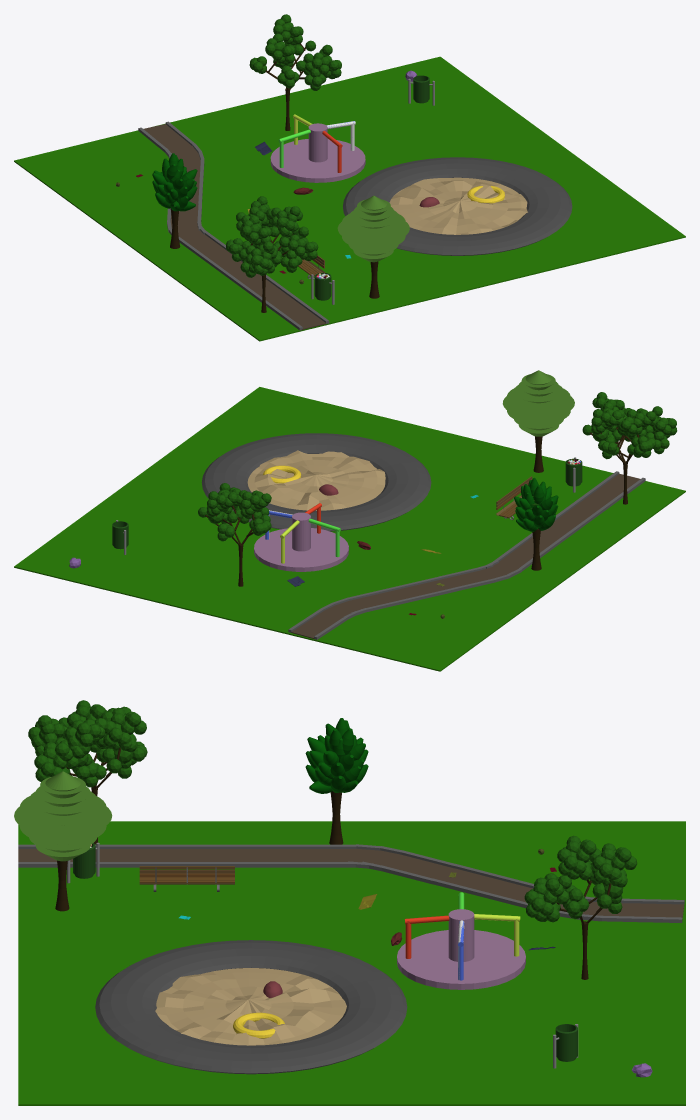
The model's file is Knysna Park blend.fbx.
3 views of the same model, one above another, from view 1: azimuth 30°, elevation 25°; view 2: azimuth 150°, elevation 25°; view 3: azimuth 270°, elevation 25° (orthographic). The views are drawn at different scales.
Visible parts, largest first — view 1: Lawn, SandPlayGround, Pathway, Tree1.2, MaryGoRound, Tree1, Tree2, Tree3, Bin2, Bin1; view 2: Lawn, SandPlayGround, Pathway, Tree1.2, MaryGoRound, Tree2, Tree1, Tree3, Bench, Bin2; view 3: Lawn, SandPlayGround, Pathway, MaryGoRound, Tree1.2, Tree2, Tree1, Tree3, Bench, Bin2, Bin1.
Boxes of the visible parts, x1,y1,x2,y2 form: Lawn: [14, 56, 685, 341]; SandPlayGround: [343, 157, 572, 255]; Pathway: [138, 121, 329, 330]; Tree1.2: [226, 196, 318, 312]; MaryGoRound: [270, 114, 365, 182]; Tree1: [249, 14, 341, 130]; Tree2: [337, 195, 409, 298]; Tree3: [152, 153, 197, 248]; Bin2: [408, 75, 434, 105]; Bin1: [311, 272, 334, 304]; Lawn: [14, 387, 685, 671]; SandPlayGround: [201, 433, 431, 531]; Pathway: [288, 471, 645, 639]; Tree1.2: [582, 392, 677, 504]; MaryGoRound: [254, 503, 348, 571]; Tree2: [502, 370, 574, 472]; Tree1: [198, 483, 271, 586]; Tree3: [514, 477, 558, 570]; Bench: [496, 476, 532, 520]; Bin2: [112, 520, 128, 554]; Lawn: [18, 821, 685, 1105]; SandPlayGround: [95, 940, 407, 1074]; Pathway: [18, 844, 684, 922]; MaryGoRound: [397, 892, 525, 989]; Tree1.2: [28, 700, 147, 844]; Tree2: [14, 771, 112, 911]; Tree1: [524, 835, 637, 979]; Tree3: [305, 718, 368, 844]; Bench: [139, 866, 234, 891]; Bin2: [553, 1024, 578, 1068]; Bin1: [67, 842, 99, 883].
Size of the model in its own units: 8635 by 2126 by 8660.
